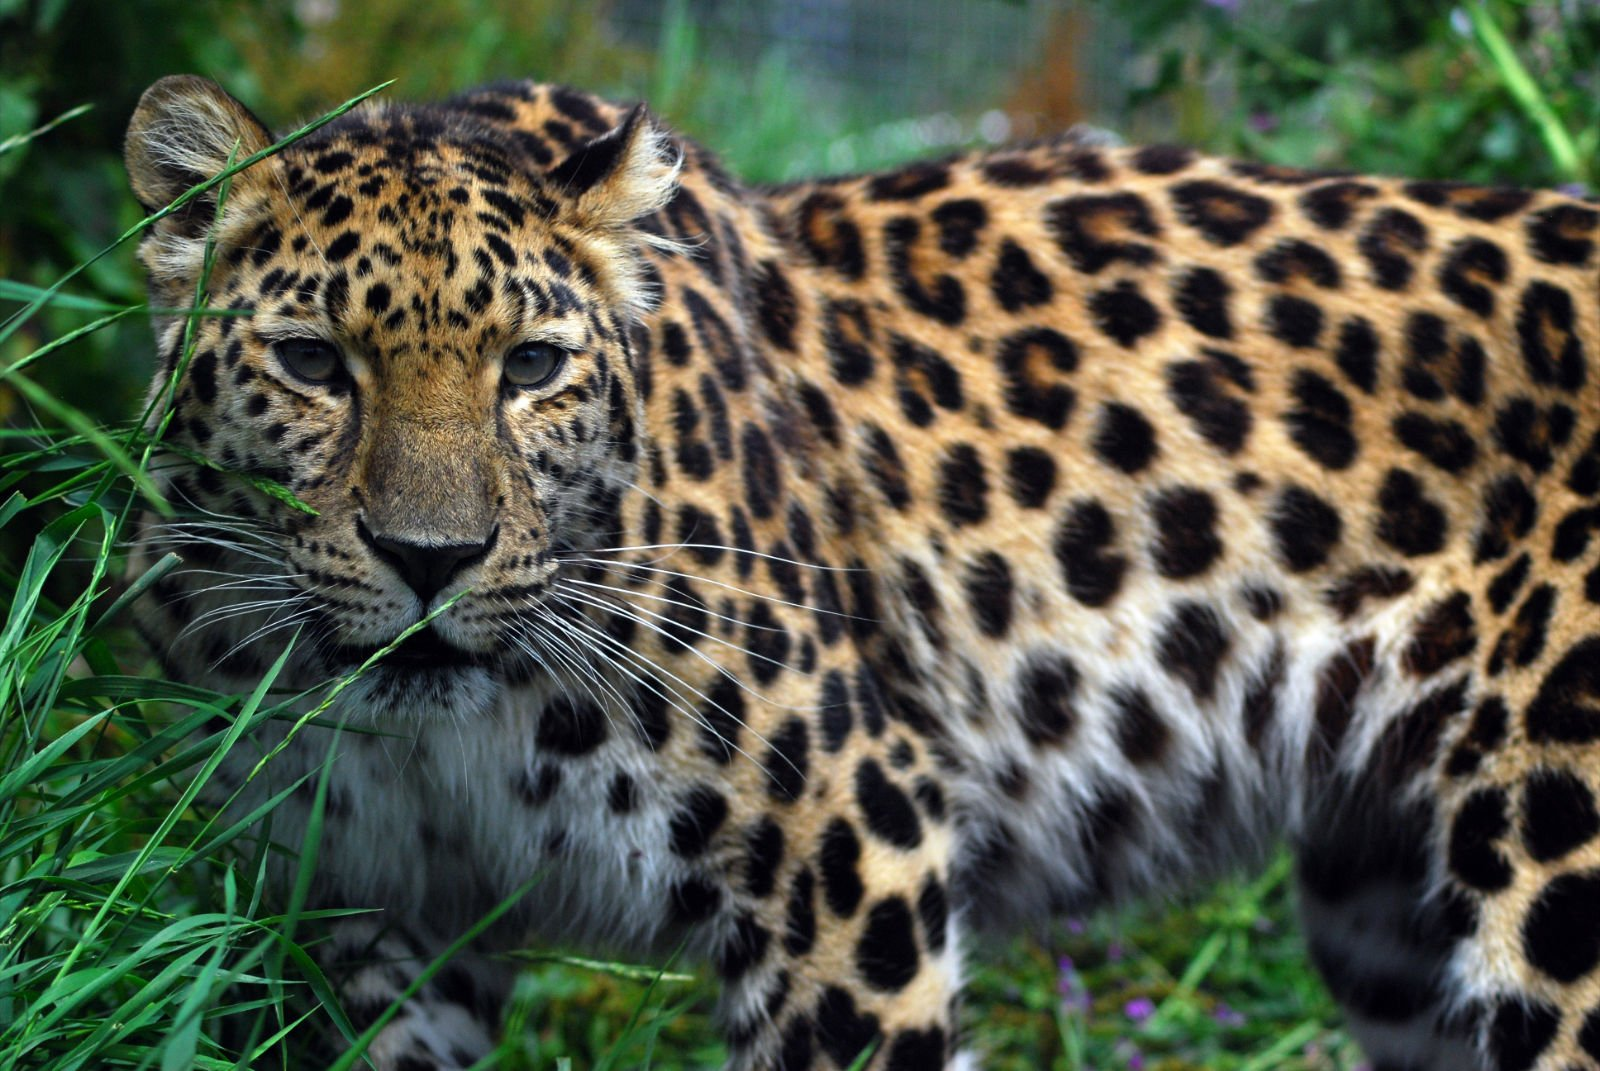amur_leopard: (96, 49, 742, 712)
